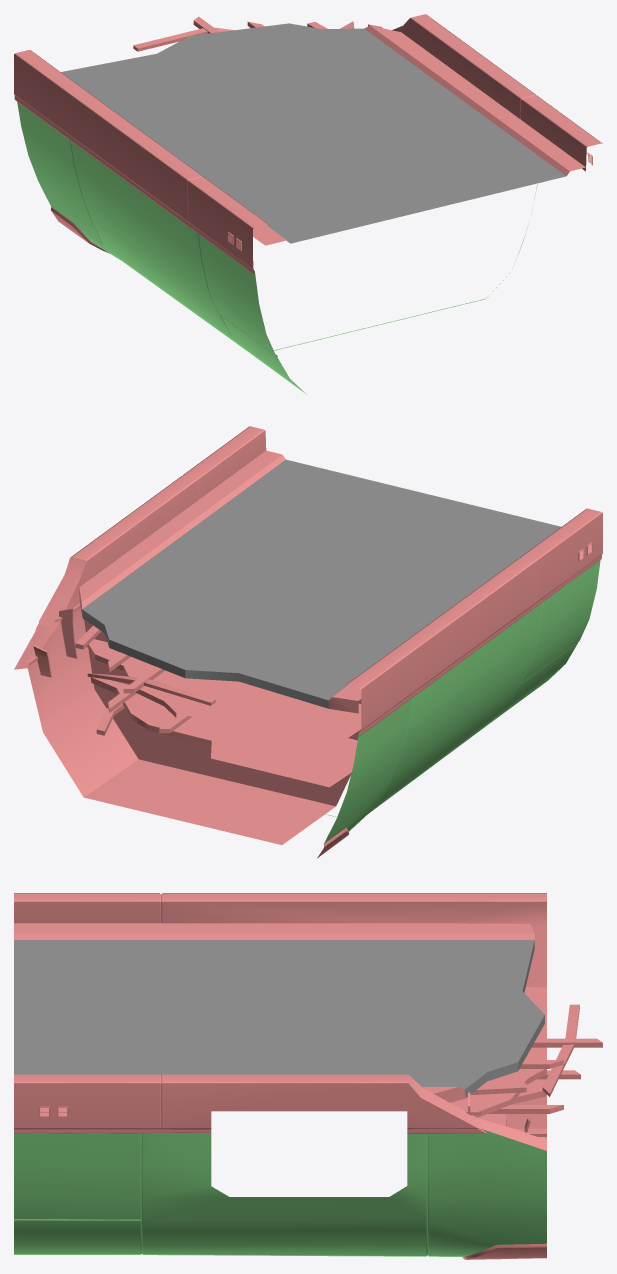
File: S_Envi_Olgk_Freighter_01b.gltf
3 renders of one model, top to bottom at view 1: azimuth 30°, elevation 25°; view 2: azimuth 150°, elevation 25°; view 3: azimuth 270°, elevation 25°, orthographic. The views are drawn at different scales.
Visible parts, largest first — view 1: S_Envi_Olgk_Freighter_01b; view 2: S_Envi_Olgk_Freighter_01b; view 3: S_Envi_Olgk_Freighter_01b.
Boxes of the visible parts, left/top/right/bottom form: S_Envi_Olgk_Freighter_01b: left=14, top=14, right=602, bottom=394; S_Envi_Olgk_Freighter_01b: left=14, top=426, right=602, bottom=858; S_Envi_Olgk_Freighter_01b: left=14, top=893, right=602, bottom=1259.
Size of the model in its own units: 44.41 by 22.66 by 57.71.
